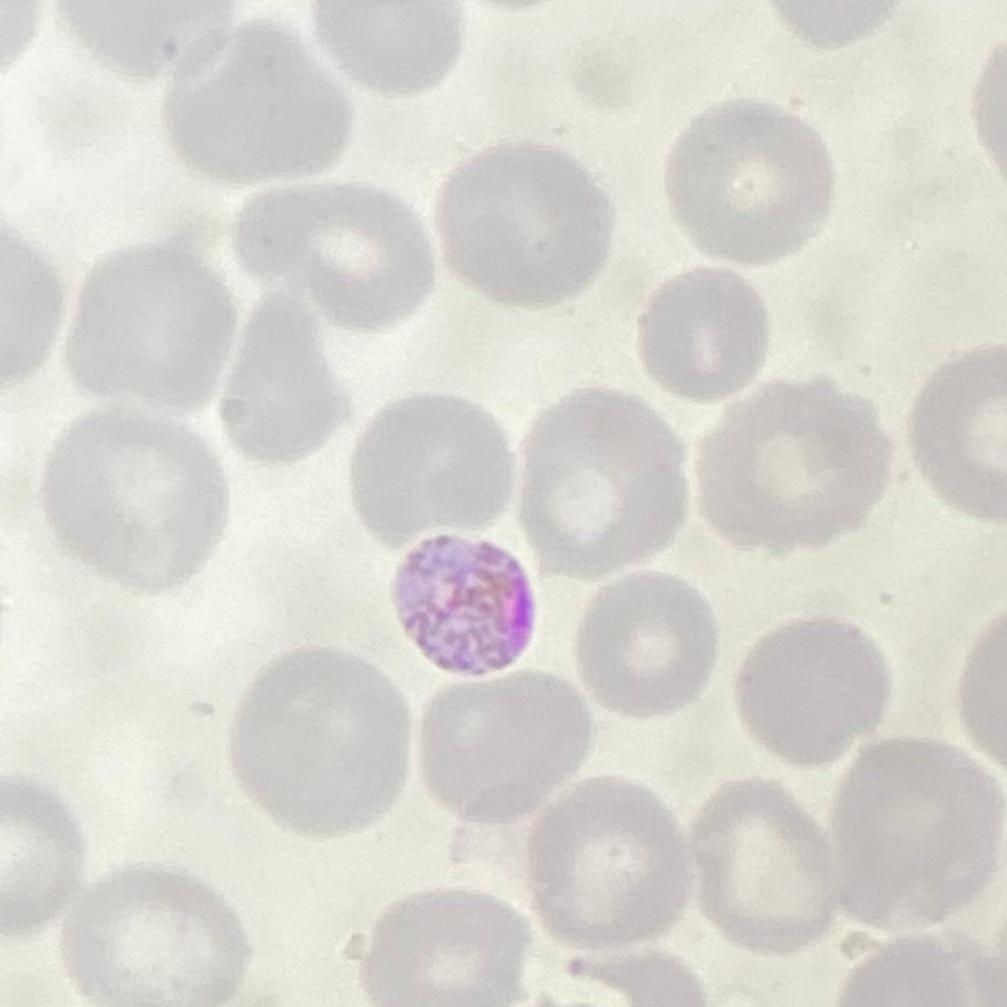Infected: (395, 523, 537, 674)
Uninfected: (827, 746, 1007, 943), (45, 403, 227, 596), (697, 376, 894, 551), (230, 648, 408, 839), (518, 381, 686, 568), (235, 171, 432, 330), (60, 226, 232, 407), (438, 136, 615, 310), (162, 16, 350, 175), (57, 862, 258, 1007), (528, 778, 692, 950), (345, 388, 513, 551), (670, 98, 830, 269), (688, 773, 836, 948), (417, 668, 585, 819), (740, 606, 891, 761), (220, 278, 345, 462), (360, 883, 532, 1007), (578, 573, 718, 720), (632, 263, 765, 399)
